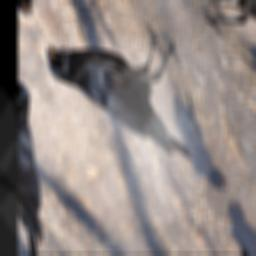Crow: (38, 0, 228, 203)
